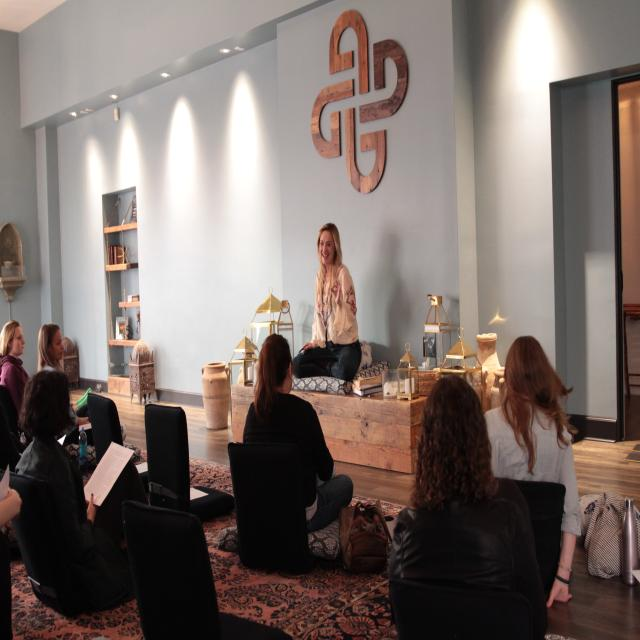body: (386, 373, 549, 640), (14, 369, 150, 619), (483, 334, 582, 610), (239, 331, 356, 538), (291, 222, 362, 383), (0, 319, 93, 416), (36, 323, 96, 447), (1, 376, 22, 640)
